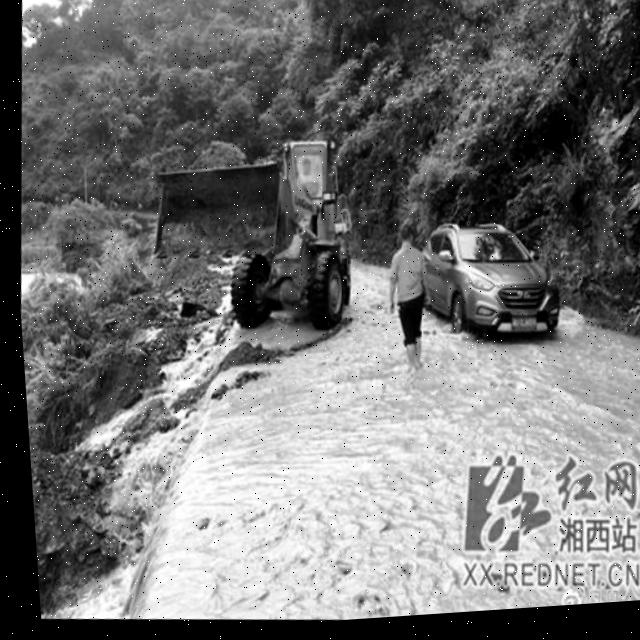civilian: (375, 216, 446, 390)
